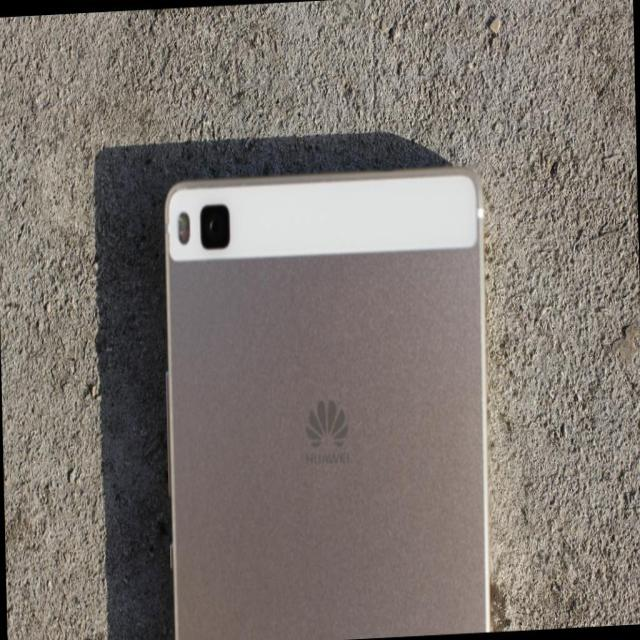phone good: (139, 158, 520, 640)
